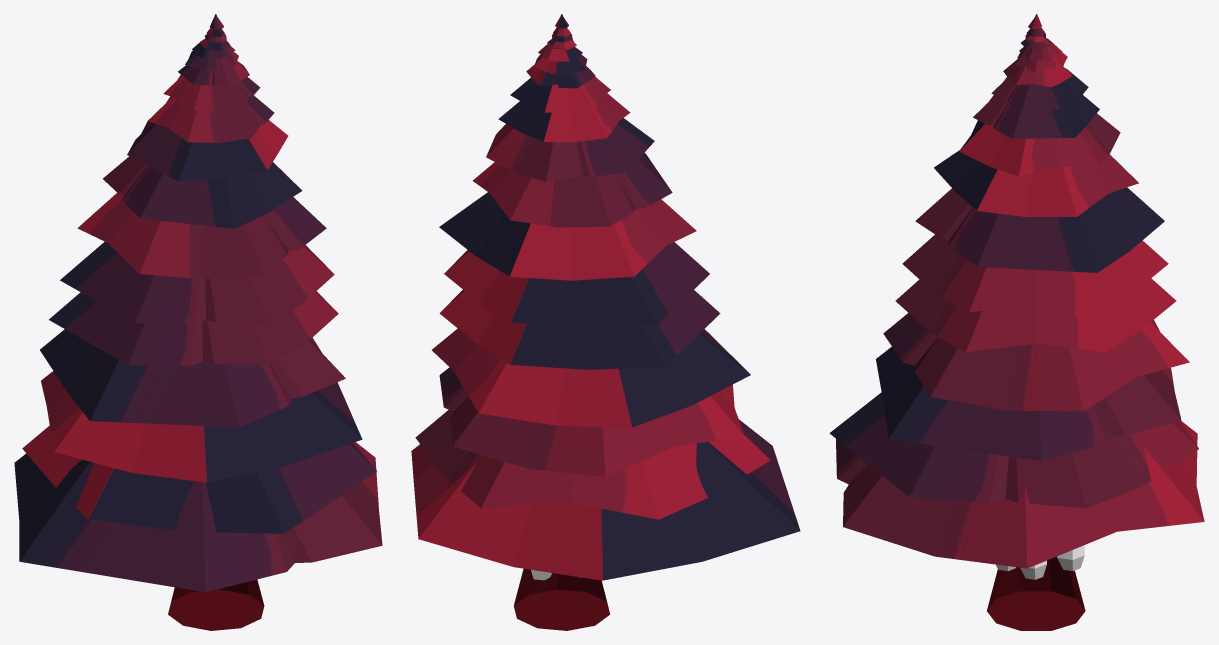
The model's file is arvore_vermelha.fbx.
The picture shows the model from 3 angles, left to right: view 1: azimuth 30°, elevation 25°; view 2: azimuth 150°, elevation 25°; view 3: azimuth 270°, elevation 25°; orthographic projection.
Parts seen in each view (by area): view 1: Cone.022; view 2: Cone.022; view 3: Cone.022.
Boxes of the visible parts, x1,y1,x2,y2 form: Cone.022: [14, 14, 382, 630]; Cone.022: [411, 14, 800, 630]; Cone.022: [829, 14, 1204, 630].
Size of the model in its own units: 618 by 945 by 539.
